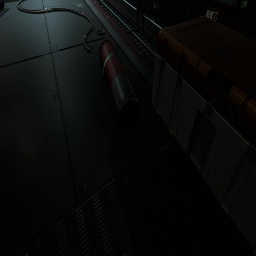NitrogenTank ,: (99, 39, 141, 133), (216, 0, 248, 32), (202, 0, 220, 21)
